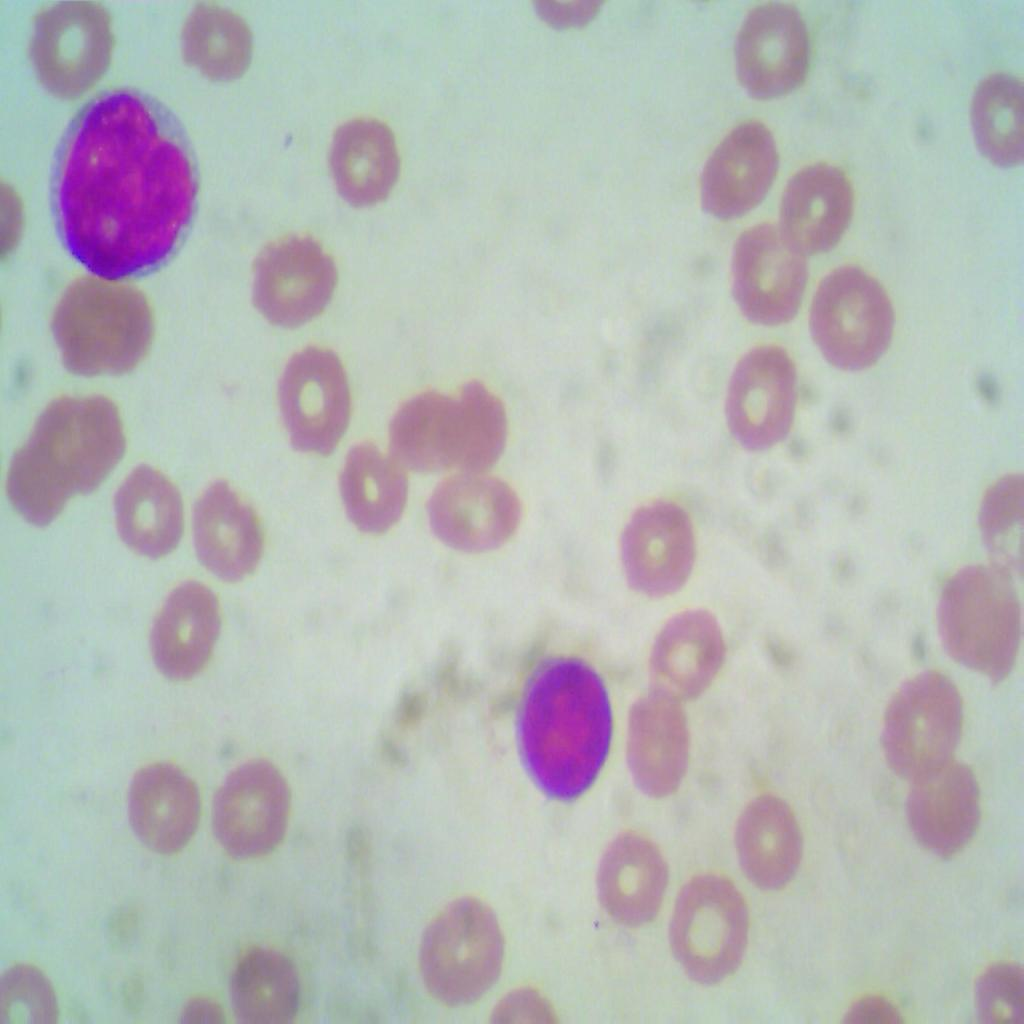Eritrosit: (922, 540, 1023, 698), (41, 275, 163, 379), (266, 338, 358, 468), (204, 740, 296, 865), (412, 882, 502, 1008), (874, 665, 966, 788), (19, 0, 128, 101), (718, 328, 801, 458), (698, 115, 786, 234), (810, 251, 896, 371), (896, 754, 986, 865), (724, 0, 818, 105), (38, 385, 128, 494), (141, 580, 228, 692), (126, 746, 213, 856), (163, 0, 258, 100), (728, 215, 806, 335), (426, 464, 521, 562), (222, 925, 316, 1023), (673, 867, 750, 986), (722, 790, 810, 894), (248, 230, 338, 331), (593, 826, 673, 936), (618, 488, 692, 604), (335, 421, 404, 541), (2, 414, 74, 528), (778, 154, 858, 255), (324, 112, 401, 214), (186, 478, 258, 581), (646, 602, 723, 698), (624, 684, 688, 794), (119, 454, 181, 566), (383, 387, 458, 479), (962, 62, 1023, 174), (454, 384, 506, 471)
Limfoblast: (44, 79, 210, 298)
Limfosit: (502, 642, 610, 802)
